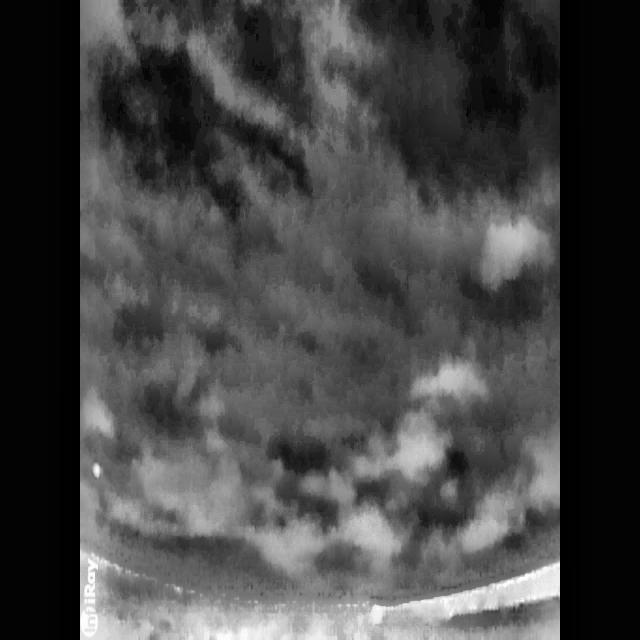drone: (92, 462, 101, 479)
